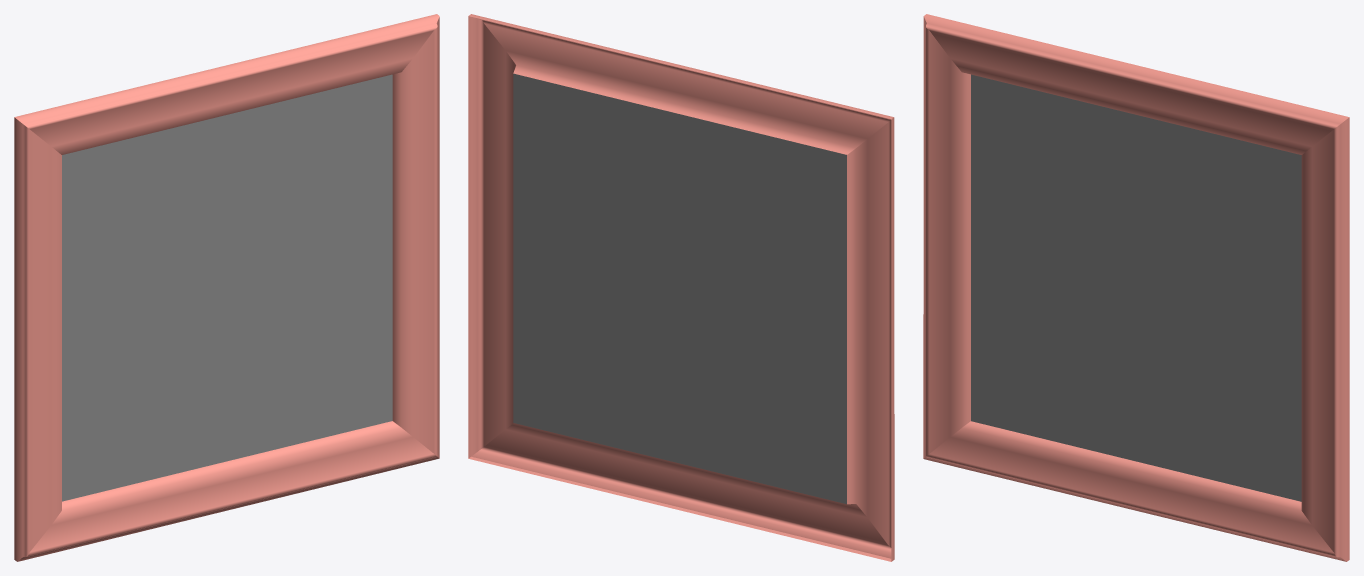
The model's file is picture_3.FBX.
The picture shows the model from 3 angles, left to right: view 1: azimuth 30°, elevation 25°; view 2: azimuth 150°, elevation 25°; view 3: azimuth 330°, elevation 25°; orthographic projection.
Visible parts, largest first — view 1: Picture; view 2: Picture; view 3: Picture.
Part boxes in pixels (x1,y1,x2,y2): Picture: (14,14,439,561); Picture: (468,14,894,561); Picture: (923,14,1349,561).
Bounding box in the file's own units: 107 × 107 × 3.06.
